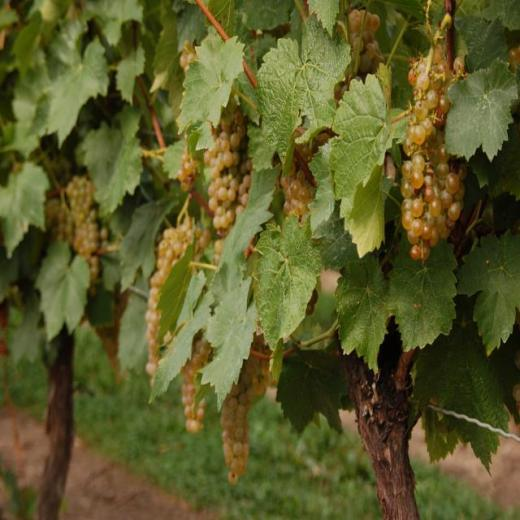Orange: (402, 42, 465, 261), (144, 215, 212, 389), (280, 125, 330, 317), (176, 42, 238, 190), (203, 112, 254, 266), (221, 332, 272, 485), (70, 176, 108, 294), (337, 10, 386, 100), (182, 338, 208, 434), (44, 190, 74, 245), (508, 44, 520, 74)
